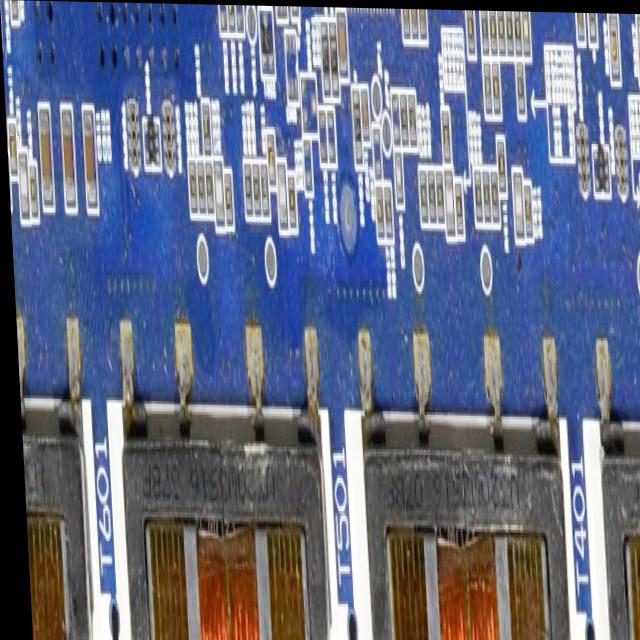capacitor: (81, 107, 95, 211), (60, 106, 74, 208), (38, 107, 51, 207), (211, 158, 223, 228), (511, 167, 523, 236), (336, 12, 348, 76), (16, 153, 27, 219), (276, 163, 287, 227), (442, 169, 453, 232), (359, 88, 369, 145), (390, 92, 400, 145), (393, 152, 402, 201), (372, 130, 380, 175), (522, 9, 530, 52), (576, 10, 585, 40), (411, 7, 419, 37), (403, 7, 410, 35), (420, 7, 426, 37)
resistor: (609, 11, 620, 74), (221, 165, 232, 225), (241, 162, 253, 216), (301, 135, 311, 194), (200, 98, 210, 155), (285, 175, 295, 229), (317, 110, 327, 164), (515, 57, 524, 115), (452, 177, 462, 229), (325, 110, 335, 162), (381, 185, 391, 236), (264, 130, 273, 186), (7, 121, 16, 177), (250, 163, 259, 218), (373, 184, 382, 238), (522, 182, 531, 236), (27, 166, 36, 220), (407, 90, 416, 143), (433, 170, 442, 222), (440, 107, 449, 159), (203, 160, 211, 218), (514, 9, 524, 55), (489, 167, 498, 218), (187, 161, 196, 212), (195, 161, 204, 212), (399, 93, 408, 143), (483, 60, 492, 110), (258, 160, 266, 216), (496, 139, 504, 192), (426, 170, 434, 222), (491, 57, 499, 109), (506, 9, 515, 55), (418, 169, 426, 219), (481, 170, 489, 220), (472, 168, 480, 217), (490, 9, 498, 52), (482, 8, 489, 52), (498, 9, 505, 52), (468, 8, 475, 49), (236, 4, 244, 32), (220, 4, 227, 34), (228, 4, 236, 29), (11, 0, 19, 20), (638, 16, 640, 74), (639, 178, 640, 225)
